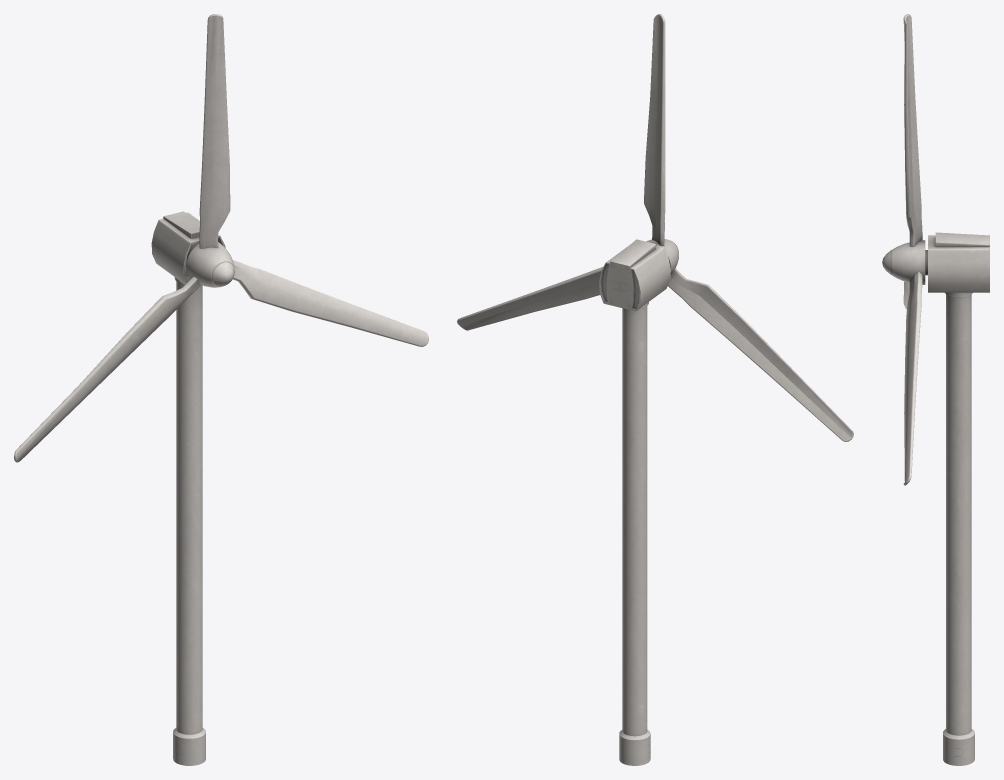
Rendered from animated_wind_turbine_scaled.glb.
3 renders of one model, left to right at view 1: azimuth 30°, elevation 25°; view 2: azimuth 150°, elevation 25°; view 3: azimuth 270°, elevation 25°, orthographic. The views are drawn at different scales.
Visible parts, largest first — view 1: Blades, Main Unit; view 2: Main Unit, Blades; view 3: Main Unit, Blades.
Part boxes in pixels (x1,y1,x2,y2): Blades: [14, 14, 428, 462]; Main Unit: [151, 211, 225, 765]; Main Unit: [599, 239, 670, 765]; Blades: [457, 14, 853, 441]; Main Unit: [928, 232, 989, 765]; Blades: [882, 14, 927, 485].
Size of the model in its own units: 227 by 399 by 52.47.
1 material, 1 textured.
